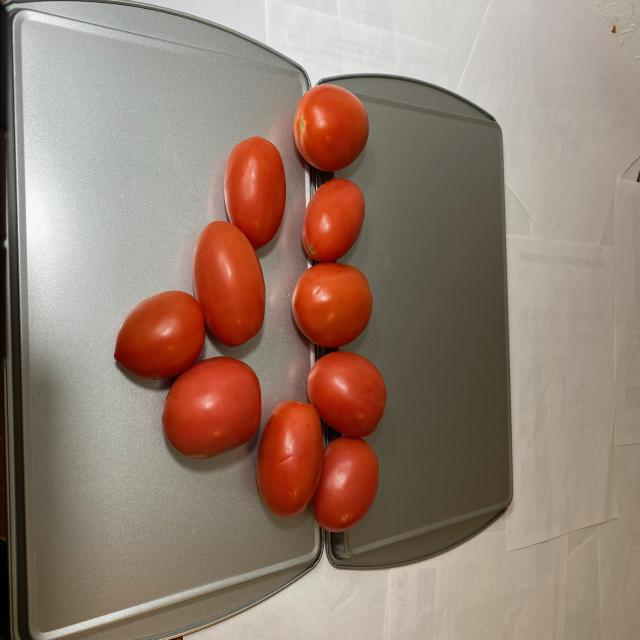tomato: (106, 86, 388, 534)
